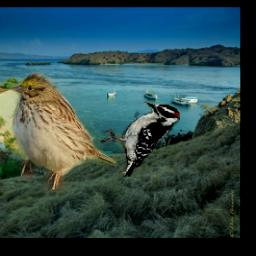Sparrow: (6, 70, 117, 191)
Woodpecker: (99, 101, 181, 177)
